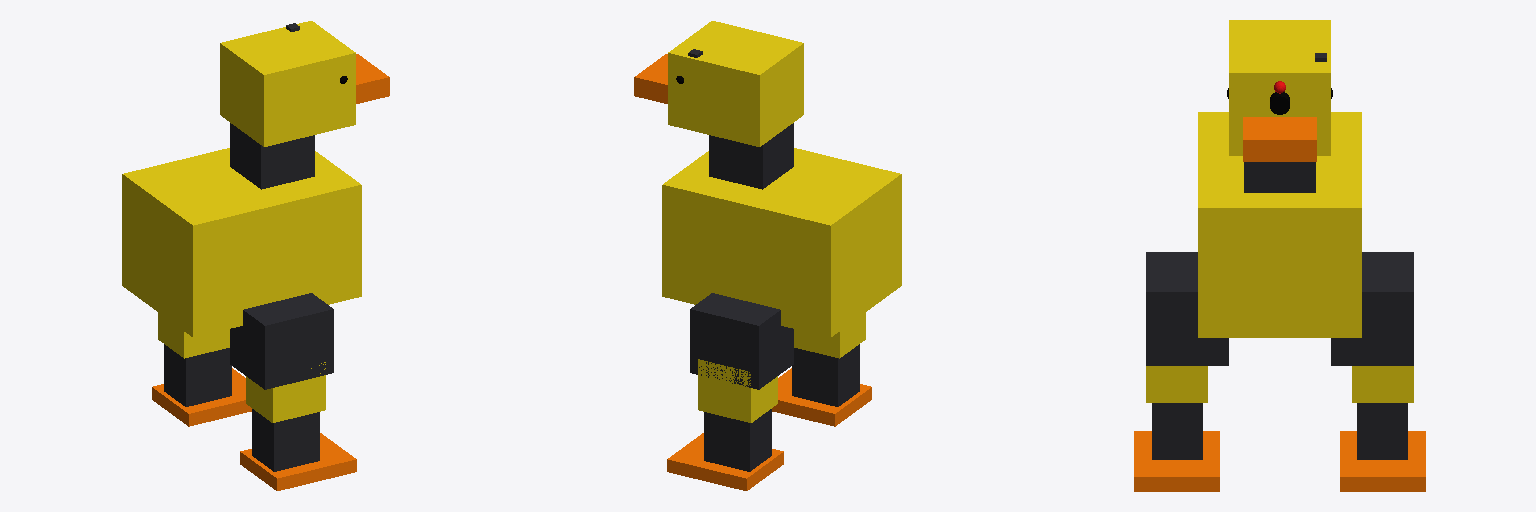
robot.urdf — microduck_esp32_8dof:
<?xml version="1.0"?>
<robot name="microduck_esp32_8dof">

  <!-- Materials -->
  <material name="duck_yellow">
    <color rgba="0.95 0.85 0.1 1.0"/>
  </material>
  <material name="duck_orange">
    <color rgba="1.0 0.5 0.05 1.0"/>
  </material>
  <material name="servo_grey">
    <color rgba="0.2 0.2 0.22 1.0"/>
  </material>
  <material name="esp32_blue">
    <color rgba="0.08 0.25 0.65 1.0"/>
  </material>
  <material name="black">
    <color rgba="0.05 0.05 0.05 1.0"/>
  </material>
  <material name="white">
    <color rgba="0.95 0.95 0.95 1.0"/>
  </material>
  <material name="red">
    <color rgba="0.9 0.1 0.1 1.0"/>
  </material>

  <!-- Base Link (Chassis + 2x ESP32-S3 + Carrier Board + 2S 18650 Battery: 310g, low CoM at lower torso) -->
  <link name="base_link">
    <inertial>
      <origin xyz="0 0 -0.0052" rpy="0 0 0"/>
      <mass value="0.310"/>
      <inertia ixx="0.00026160" ixy="0" ixz="0" iyy="0.00039986" iyz="0" izz="0.00042692"/>
    </inertial>
    <visual>
      <origin xyz="0 0 0" rpy="0 0 0"/>
      <geometry>
        <box size="0.110 0.080 0.070"/>
      </geometry>
      <material name="duck_yellow"/>
    </visual>
    <visual>
      <origin xyz="0 0 -0.018" rpy="0 0 0"/>
      <geometry>
        <box size="0.090 0.060 0.030"/>
      </geometry>
      <material name="esp32_blue"/>
    </visual>
    <collision>
      <origin xyz="0 0 0" rpy="0 0 0"/>
      <geometry>
        <box size="0.110 0.080 0.070"/>
      </geometry>
    </collision>
    <collision>
      <origin xyz="0 0 -0.018" rpy="0 0 0"/>
      <geometry>
        <box size="0.090 0.060 0.030"/>
      </geometry>
    </collision>
  </link>

  <!-- Neck Link (35 x 35 x 30 mm, mass: 30g) -->
  <joint name="head_yaw" type="revolute">
    <parent link="base_link"/>
    <child link="neck_link"/>
    <origin xyz="0.020 0 0.035" rpy="0 0 0"/>
    <axis xyz="0 0 1"/>
    <limit lower="-1.57" upper="1.57" effort="1.0" velocity="6.0"/>
    <dynamics damping="0.15" friction="0.0"/>
  </joint>

  <link name="neck_link">
    <inertial>
      <origin xyz="0 0 0.015" rpy="0 0 0"/>
      <mass value="0.030"/>
      <inertia ixx="5.3125e-6" ixy="0" ixz="0" iyy="5.3125e-6" iyz="0" izz="6.125e-6"/>
    </inertial>
    <visual>
      <origin xyz="0 0 0.015" rpy="0 0 0"/>
      <geometry>
        <box size="0.035 0.035 0.030"/>
      </geometry>
      <material name="servo_grey"/>
    </visual>
    <collision>
      <origin xyz="0 0 0.015" rpy="0 0 0"/>
      <geometry>
        <box size="0.035 0.035 0.030"/>
      </geometry>
    </collision>
  </link>

  <!-- Head Link (Head + Beak + Sensors, total mass: 60g) -->
  <joint name="head_pitch" type="revolute">
    <parent link="neck_link"/>
    <child link="head_link"/>
    <origin xyz="0 0 0.030" rpy="0 0 0"/>
    <axis xyz="0 1 0"/>
    <limit lower="-0.52" upper="0.78" effort="1.0" velocity="6.0"/>
    <dynamics damping="0.15" friction="0.0"/>
  </joint>

  <link name="head_link">
    <inertial>
      <origin xyz="0.010 0 0.0225" rpy="0 0 0"/>
      <mass value="0.060"/>
      <inertia ixx="2.2625e-5" ixy="0" ixz="0" iyy="2.8125e-5" iyz="0" izz="3.0500e-5"/>
    </inertial>
    <visual>
      <origin xyz="0.010 0 0.0225" rpy="0 0 0"/>
      <geometry>
        <box size="0.060 0.050 0.045"/>
      </geometry>
      <material name="duck_yellow"/>
    </visual>
    <visual>
      <origin xyz="0.048 0 0.015" rpy="0 0 0"/>
      <geometry>
        <box size="0.036 0.036 0.012"/>
      </geometry>
      <material name="duck_orange"/>
    </visual>
    <visual>
      <origin xyz="0.032 0.022 0.030" rpy="0 0 0"/>
      <geometry>
        <sphere radius="0.004"/>
      </geometry>
      <material name="black"/>
    </visual>
    <visual>
      <origin xyz="0.032 -0.022 0.030" rpy="0 0 0"/>
      <geometry>
        <sphere radius="0.004"/>
      </geometry>
      <material name="black"/>
    </visual>
    <collision>
      <origin xyz="0.010 0 0.0225" rpy="0 0 0"/>
      <geometry>
        <box size="0.060 0.050 0.045"/>
      </geometry>
    </collision>
    <collision>
      <origin xyz="0.048 0 0.015" rpy="0 0 0"/>
      <geometry>
        <box size="0.036 0.036 0.012"/>
      </geometry>
    </collision>
  </link>

  <!-- Perception Suite: Head Camera Link -->
  <joint name="head_camera_joint" type="fixed">
    <parent link="head_link"/>
    <child link="head_camera_link"/>
    <origin xyz="0.045 0 0.030" rpy="0 0 0"/>
  </joint>

  <link name="head_camera_link">
    <visual>
      <origin xyz="-0.002 0 0" rpy="0 1.5708 0"/>
      <geometry>
        <cylinder radius="0.005" length="0.006"/>
      </geometry>
      <material name="black"/>
    </visual>
  </link>

  <!-- Perception Suite: Microphone Link -->
  <joint name="mic_joint" type="fixed">
    <parent link="head_link"/>
    <child link="mic_link"/>
    <origin xyz="0.025 0.020 0.046" rpy="0 0 0"/>
  </joint>

  <link name="mic_link">
    <visual>
      <origin xyz="0 0 0" rpy="0 0 0"/>
      <geometry>
        <box size="0.006 0.006 0.002"/>
      </geometry>
      <material name="servo_grey"/>
    </visual>
  </link>

  <!-- Perception Suite: 5-Ray LiDAR Links -->
  <joint name="lidar_ray_m30_joint" type="fixed">
    <parent link="head_link"/>
    <child link="lidar_ray_m30_link"/>
    <origin xyz="0.042 0 0.038" rpy="0 0 -0.523599"/>
  </joint>
  <link name="lidar_ray_m30_link">
    <visual>
      <origin xyz="0 0 0" rpy="0 0 0"/>
      <geometry>
        <sphere radius="0.003"/>
      </geometry>
      <material name="red"/>
    </visual>
  </link>

  <joint name="lidar_ray_m15_joint" type="fixed">
    <parent link="head_link"/>
    <child link="lidar_ray_m15_link"/>
    <origin xyz="0.042 0 0.038" rpy="0 0 -0.261799"/>
  </joint>
  <link name="lidar_ray_m15_link">
    <visual>
      <origin xyz="0 0 0" rpy="0 0 0"/>
      <geometry>
        <sphere radius="0.003"/>
      </geometry>
      <material name="red"/>
    </visual>
  </link>

  <joint name="lidar_ray_0_joint" type="fixed">
    <parent link="head_link"/>
    <child link="lidar_ray_0_link"/>
    <origin xyz="0.042 0 0.038" rpy="0 0 0"/>
  </joint>
  <link name="lidar_ray_0_link">
    <visual>
      <origin xyz="0 0 0" rpy="0 0 0"/>
      <geometry>
        <sphere radius="0.003"/>
      </geometry>
      <material name="red"/>
    </visual>
  </link>

  <joint name="lidar_ray_p15_joint" type="fixed">
    <parent link="head_link"/>
    <child link="lidar_ray_p15_link"/>
    <origin xyz="0.042 0 0.038" rpy="0 0 0.261799"/>
  </joint>
  <link name="lidar_ray_p15_link">
    <visual>
      <origin xyz="0 0 0" rpy="0 0 0"/>
      <geometry>
        <sphere radius="0.003"/>
      </geometry>
      <material name="red"/>
    </visual>
  </link>

  <joint name="lidar_ray_p30_joint" type="fixed">
    <parent link="head_link"/>
    <child link="lidar_ray_p30_link"/>
    <origin xyz="0.042 0 0.038" rpy="0 0 0.523599"/>
  </joint>
  <link name="lidar_ray_p30_link">
    <visual>
      <origin xyz="0 0 0" rpy="0 0 0"/>
      <geometry>
        <sphere radius="0.003"/>
      </geometry>
      <material name="red"/>
    </visual>
  </link>

  <!-- Left Hip Roll Link (45 x 40 x 40 mm, mass: 50g) -->
  <joint name="left_hip_roll" type="revolute">
    <parent link="base_link"/>
    <child link="left_hip_roll_link"/>
    <origin xyz="0 0.035 -0.035" rpy="0 0 0"/>
    <axis xyz="1 0 0"/>
    <limit lower="-0.44" upper="0.44" effort="1.0" velocity="6.0"/>
    <dynamics damping="0.15" friction="0.0"/>
  </joint>

  <link name="left_hip_roll_link">
    <inertial>
      <origin xyz="0 0.010 -0.010" rpy="0 0 0"/>
      <mass value="0.050"/>
      <inertia ixx="1.3333e-5" ixy="0" ixz="0" iyy="1.5104e-5" iyz="0" izz="1.5104e-5"/>
    </inertial>
    <visual>
      <origin xyz="0 0.010 -0.010" rpy="0 0 0"/>
      <geometry>
        <box size="0.045 0.040 0.040"/>
      </geometry>
      <material name="servo_grey"/>
    </visual>
    <collision>
      <origin xyz="0 0.010 -0.010" rpy="0 0 0"/>
      <geometry>
        <box size="0.045 0.040 0.040"/>
      </geometry>
    </collision>
  </link>

  <!-- Left Thigh Link (35 x 30 x 32 mm, mass: 40g) -->
  <joint name="left_hip_pitch" type="revolute">
    <parent link="left_hip_roll_link"/>
    <child link="left_thigh_link"/>
    <origin xyz="0 0.015 -0.020" rpy="0 0 0"/>
    <axis xyz="0 1 0"/>
    <limit lower="-0.87" upper="0.87" effort="1.0" velocity="6.0"/>
    <dynamics damping="0.15" friction="0.0"/>
  </joint>

  <link name="left_thigh_link">
    <inertial>
      <origin xyz="0 0 -0.016" rpy="0 0 0"/>
      <mass value="0.040"/>
      <inertia ixx="6.41e-06" ixy="0" ixz="0" iyy="7.50e-06" iyz="0" izz="7.08e-06"/>
    </inertial>
    <visual>
      <origin xyz="0 0 -0.016" rpy="0 0 0"/>
      <geometry>
        <box size="0.035 0.030 0.032"/>
      </geometry>
      <material name="duck_yellow"/>
    </visual>
    <collision>
      <origin xyz="0 0 -0.016" rpy="0 0 0"/>
      <geometry>
        <box size="0.035 0.030 0.032"/>
      </geometry>
    </collision>
  </link>

  <!-- Left Shin Link (30 x 25 x 32 mm, mass: 30g) -->
  <joint name="left_knee_pitch" type="revolute">
    <parent link="left_thigh_link"/>
    <child link="left_shin_link"/>
    <origin xyz="0 0 -0.032" rpy="0 0 0"/>
    <axis xyz="0 1 0"/>
    <limit lower="0.0" upper="1.48" effort="1.0" velocity="6.0"/>
    <dynamics damping="0.15" friction="0.0"/>
  </joint>

  <link name="left_shin_link">
    <inertial>
      <origin xyz="0 0 -0.016" rpy="0 0 0"/>
      <mass value="0.030"/>
      <inertia ixx="4.12e-06" ixy="0" ixz="0" iyy="4.81e-06" iyz="0" izz="3.81e-06"/>
    </inertial>
    <visual>
      <origin xyz="0 0 -0.016" rpy="0 0 0"/>
      <geometry>
        <box size="0.030 0.025 0.032"/>
      </geometry>
      <material name="servo_grey"/>
    </visual>
    <collision>
      <origin xyz="0 0 -0.016" rpy="0 0 0"/>
      <geometry>
        <box size="0.030 0.025 0.032"/>
      </geometry>
    </collision>
  </link>

  <!-- Left Foot Link (52 x 42 x 8 mm, mass: 22g) -->
  <joint name="left_foot_joint" type="fixed">
    <parent link="left_shin_link"/>
    <child link="left_foot_link"/>
    <origin xyz="0 0 -0.032" rpy="0 0 0"/>
  </joint>

  <link name="left_foot_link">
    <inertial>
      <origin xyz="0.008 0 -0.004" rpy="0 0 0"/>
      <mass value="0.022"/>
      <inertia ixx="3.35e-06" ixy="0" ixz="0" iyy="5.07e-06" iyz="0" izz="8.19e-06"/>
    </inertial>
    <visual>
      <origin xyz="0.008 0 -0.004" rpy="0 0 0"/>
      <geometry>
        <box size="0.052 0.042 0.008"/>
      </geometry>
      <material name="duck_orange"/>
    </visual>
    <collision>
      <origin xyz="0.008 0 -0.004" rpy="0 0 0"/>
      <geometry>
        <box size="0.052 0.042 0.008"/>
      </geometry>
    </collision>
  </link>

  <!-- Right Hip Roll Link (45 x 40 x 40 mm, mass: 50g) -->
  <joint name="right_hip_roll" type="revolute">
    <parent link="base_link"/>
    <child link="right_hip_roll_link"/>
    <origin xyz="0 -0.035 -0.035" rpy="0 0 0"/>
    <axis xyz="1 0 0"/>
    <limit lower="-0.44" upper="0.44" effort="1.0" velocity="6.0"/>
    <dynamics damping="0.15" friction="0.0"/>
  </joint>

  <link name="right_hip_roll_link">
    <inertial>
      <origin xyz="0 -0.010 -0.010" rpy="0 0 0"/>
      <mass value="0.050"/>
      <inertia ixx="1.3333e-5" ixy="0" ixz="0" iyy="1.5104e-5" iyz="0" izz="1.5104e-5"/>
    </inertial>
    <visual>
      <origin xyz="0 -0.010 -0.010" rpy="0 0 0"/>
      <geometry>
        <box size="0.045 0.040 0.040"/>
      </geometry>
      <material name="servo_grey"/>
    </visual>
    <collision>
      <origin xyz="0 -0.010 -0.010" rpy="0 0 0"/>
      <geometry>
        <box size="0.045 0.040 0.040"/>
      </geometry>
    </collision>
  </link>

  <!-- Right Thigh Link (35 x 30 x 32 mm, mass: 40g) -->
  <joint name="right_hip_pitch" type="revolute">
    <parent link="right_hip_roll_link"/>
    <child link="right_thigh_link"/>
    <origin xyz="0 -0.015 -0.020" rpy="0 0 0"/>
    <axis xyz="0 1 0"/>
    <limit lower="-0.87" upper="0.87" effort="1.0" velocity="6.0"/>
    <dynamics damping="0.15" friction="0.0"/>
  </joint>

  <link name="right_thigh_link">
    <inertial>
      <origin xyz="0 0 -0.016" rpy="0 0 0"/>
      <mass value="0.040"/>
      <inertia ixx="6.41e-06" ixy="0" ixz="0" iyy="7.50e-06" iyz="0" izz="7.08e-06"/>
    </inertial>
    <visual>
      <origin xyz="0 0 -0.016" rpy="0 0 0"/>
      <geometry>
        <box size="0.035 0.030 0.032"/>
      </geometry>
      <material name="duck_yellow"/>
    </visual>
    <collision>
      <origin xyz="0 0 -0.016" rpy="0 0 0"/>
      <geometry>
        <box size="0.035 0.030 0.032"/>
      </geometry>
    </collision>
  </link>

  <!-- Right Shin Link (30 x 25 x 32 mm, mass: 30g) -->
  <joint name="right_knee_pitch" type="revolute">
    <parent link="right_thigh_link"/>
    <child link="right_shin_link"/>
    <origin xyz="0 0 -0.032" rpy="0 0 0"/>
    <axis xyz="0 1 0"/>
    <limit lower="0.0" upper="1.48" effort="1.0" velocity="6.0"/>
    <dynamics damping="0.15" friction="0.0"/>
  </joint>

  <link name="right_shin_link">
    <inertial>
      <origin xyz="0 0 -0.016" rpy="0 0 0"/>
      <mass value="0.030"/>
      <inertia ixx="4.12e-06" ixy="0" ixz="0" iyy="4.81e-06" iyz="0" izz="3.81e-06"/>
    </inertial>
    <visual>
      <origin xyz="0 0 -0.016" rpy="0 0 0"/>
      <geometry>
        <box size="0.030 0.025 0.032"/>
      </geometry>
      <material name="servo_grey"/>
    </visual>
    <collision>
      <origin xyz="0 0 -0.016" rpy="0 0 0"/>
      <geometry>
        <box size="0.030 0.025 0.032"/>
      </geometry>
    </collision>
  </link>

  <!-- Right Foot Link (52 x 42 x 8 mm, mass: 22g) -->
  <joint name="right_foot_joint" type="fixed">
    <parent link="right_shin_link"/>
    <child link="right_foot_link"/>
    <origin xyz="0 0 -0.032" rpy="0 0 0"/>
  </joint>

  <link name="right_foot_link">
    <inertial>
      <origin xyz="0.008 0 -0.004" rpy="0 0 0"/>
      <mass value="0.022"/>
      <inertia ixx="3.35e-06" ixy="0" ixz="0" iyy="5.07e-06" iyz="0" izz="8.19e-06"/>
    </inertial>
    <visual>
      <origin xyz="0.008 0 -0.004" rpy="0 0 0"/>
      <geometry>
        <box size="0.052 0.042 0.008"/>
      </geometry>
      <material name="duck_orange"/>
    </visual>
    <collision>
      <origin xyz="0.008 0 -0.004" rpy="0 0 0"/>
      <geometry>
        <box size="0.052 0.042 0.008"/>
      </geometry>
    </collision>
  </link>

  <!-- Actuator Transmissions (MG996R Servos: 1.0 N.m, 6.0 rad/s) -->
  <transmission name="head_yaw_trans">
    <type>transmission_interface/SimpleTransmission</type>
    <joint name="head_yaw">
      <hardwareInterface>hardware_interface/EffortJointInterface</hardwareInterface>
    </joint>
    <actuator name="head_yaw_motor">
      <hardwareInterface>hardware_interface/EffortJointInterface</hardwareInterface>
      <mechanicalReduction>1</mechanicalReduction>
    </actuator>
  </transmission>

  <transmission name="head_pitch_trans">
    <type>transmission_interface/SimpleTransmission</type>
    <joint name="head_pitch">
      <hardwareInterface>hardware_interface/EffortJointInterface</hardwareInterface>
    </joint>
    <actuator name="head_pitch_motor">
      <hardwareInterface>hardware_interface/EffortJointInterface</hardwareInterface>
      <mechanicalReduction>1</mechanicalReduction>
    </actuator>
  </transmission>

  <transmission name="left_hip_roll_trans">
    <type>transmission_interface/SimpleTransmission</type>
    <joint name="left_hip_roll">
      <hardwareInterface>hardware_interface/EffortJointInterface</hardwareInterface>
    </joint>
    <actuator name="left_hip_roll_motor">
      <hardwareInterface>hardware_interface/EffortJointInterface</hardwareInterface>
      <mechanicalReduction>1</mechanicalReduction>
    </actuator>
  </transmission>

  <transmission name="left_hip_pitch_trans">
    <type>transmission_interface/SimpleTransmission</type>
    <joint name="left_hip_pitch">
      <hardwareInterface>hardware_interface/EffortJointInterface</hardwareInterface>
    </joint>
    <actuator name="left_hip_pitch_motor">
      <hardwareInterface>hardware_interface/EffortJointInterface</hardwareInterface>
      <mechanicalReduction>1</mechanicalReduction>
    </actuator>
  </transmission>

  <transmission name="left_knee_pitch_trans">
    <type>transmission_interface/SimpleTransmission</type>
    <joint name="left_knee_pitch">
      <hardwareInterface>hardware_interface/EffortJointInterface</hardwareInterface>
    </joint>
    <actuator name="left_knee_pitch_motor">
      <hardwareInterface>hardware_interface/EffortJointInterface</hardwareInterface>
      <mechanicalReduction>1</mechanicalReduction>
    </actuator>
  </transmission>

  <transmission name="right_hip_roll_trans">
    <type>transmission_interface/SimpleTransmission</type>
    <joint name="right_hip_roll">
      <hardwareInterface>hardware_interface/EffortJointInterface</hardwareInterface>
    </joint>
    <actuator name="right_hip_roll_motor">
      <hardwareInterface>hardware_interface/EffortJointInterface</hardwareInterface>
      <mechanicalReduction>1</mechanicalReduction>
    </actuator>
  </transmission>

  <transmission name="right_hip_pitch_trans">
    <type>transmission_interface/SimpleTransmission</type>
    <joint name="right_hip_pitch">
      <hardwareInterface>hardware_interface/EffortJointInterface</hardwareInterface>
    </joint>
    <actuator name="right_hip_pitch_motor">
      <hardwareInterface>hardware_interface/EffortJointInterface</hardwareInterface>
      <mechanicalReduction>1</mechanicalReduction>
    </actuator>
  </transmission>

  <transmission name="right_knee_pitch_trans">
    <type>transmission_interface/SimpleTransmission</type>
    <joint name="right_knee_pitch">
      <hardwareInterface>hardware_interface/EffortJointInterface</hardwareInterface>
    </joint>
    <actuator name="right_knee_pitch_motor">
      <hardwareInterface>hardware_interface/EffortJointInterface</hardwareInterface>
      <mechanicalReduction>1</mechanicalReduction>
    </actuator>
  </transmission>

</robot>

--- What the picture shows (computed from the rendered views, not written in the file) ---
Views: 3 orthographic renders of the robot side by side, from view 1: azimuth 30°, elevation 25°; view 2: azimuth 150°, elevation 25°; view 3: azimuth 270°, elevation 25°.
Robot: microduck_esp32_8dof — 18 links, 17 joints (8 revolute, 9 fixed); root link base_link; default pose: every joint at zero.
Visible links, largest first — view 1: base_link, head_link, right_hip_roll_link, neck_link, right_shin_link, left_shin_link, right_foot_link, right_thigh_link, left_foot_link, left_thigh_link; view 2: base_link, head_link, left_hip_roll_link, neck_link, left_shin_link, left_thigh_link, right_shin_link, left_foot_link, right_foot_link, right_thigh_link; view 3: base_link, head_link, left_hip_roll_link, right_hip_roll_link, left_foot_link, right_foot_link, left_shin_link, right_shin_link, left_thigh_link, right_thigh_link, neck_link.
Boxes of the visible links, x1,y1,x2,y2 form: base_link: [122, 148, 361, 337]; head_link: [220, 21, 389, 146]; right_hip_roll_link: [230, 293, 333, 389]; neck_link: [230, 123, 314, 189]; right_shin_link: [252, 409, 319, 471]; left_shin_link: [164, 344, 231, 406]; right_foot_link: [240, 433, 356, 490]; right_thigh_link: [246, 362, 325, 422]; left_foot_link: [152, 368, 251, 426]; left_thigh_link: [158, 313, 229, 358]; base_link: [662, 148, 901, 337]; head_link: [634, 21, 803, 146]; left_hip_roll_link: [690, 293, 793, 389]; neck_link: [709, 123, 793, 189]; left_shin_link: [704, 409, 771, 471]; left_thigh_link: [698, 359, 777, 422]; right_shin_link: [792, 344, 859, 406]; left_foot_link: [667, 433, 783, 490]; right_foot_link: [772, 368, 871, 426]; right_thigh_link: [794, 313, 865, 358]; base_link: [1198, 112, 1361, 337]; head_link: [1227, 20, 1332, 161]; left_hip_roll_link: [1331, 252, 1413, 365]; right_hip_roll_link: [1146, 252, 1228, 365]; left_foot_link: [1340, 431, 1425, 491]; right_foot_link: [1134, 431, 1219, 491]; left_shin_link: [1357, 403, 1407, 459]; right_shin_link: [1152, 403, 1202, 459]; left_thigh_link: [1352, 366, 1413, 402]; right_thigh_link: [1146, 366, 1207, 402]; neck_link: [1244, 162, 1315, 192].
Size in the robot's own frame: 0.141 by 0.142 by 0.239 metres.
Geometry: primitives only (box / cylinder / sphere), no mesh files.
